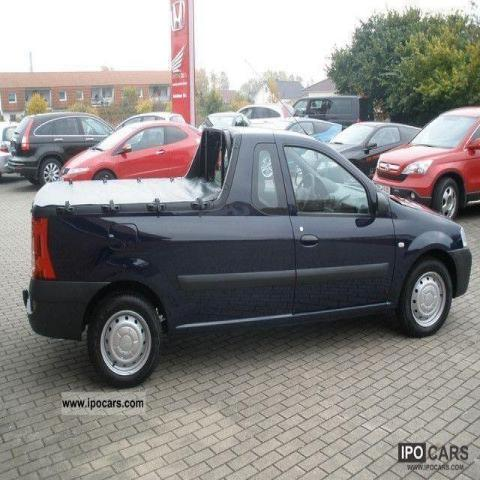car: (374, 102, 480, 224), (58, 116, 203, 183), (5, 112, 114, 187), (322, 121, 423, 180)
pickup-truck: (20, 127, 472, 387)
van: (290, 94, 368, 128)
